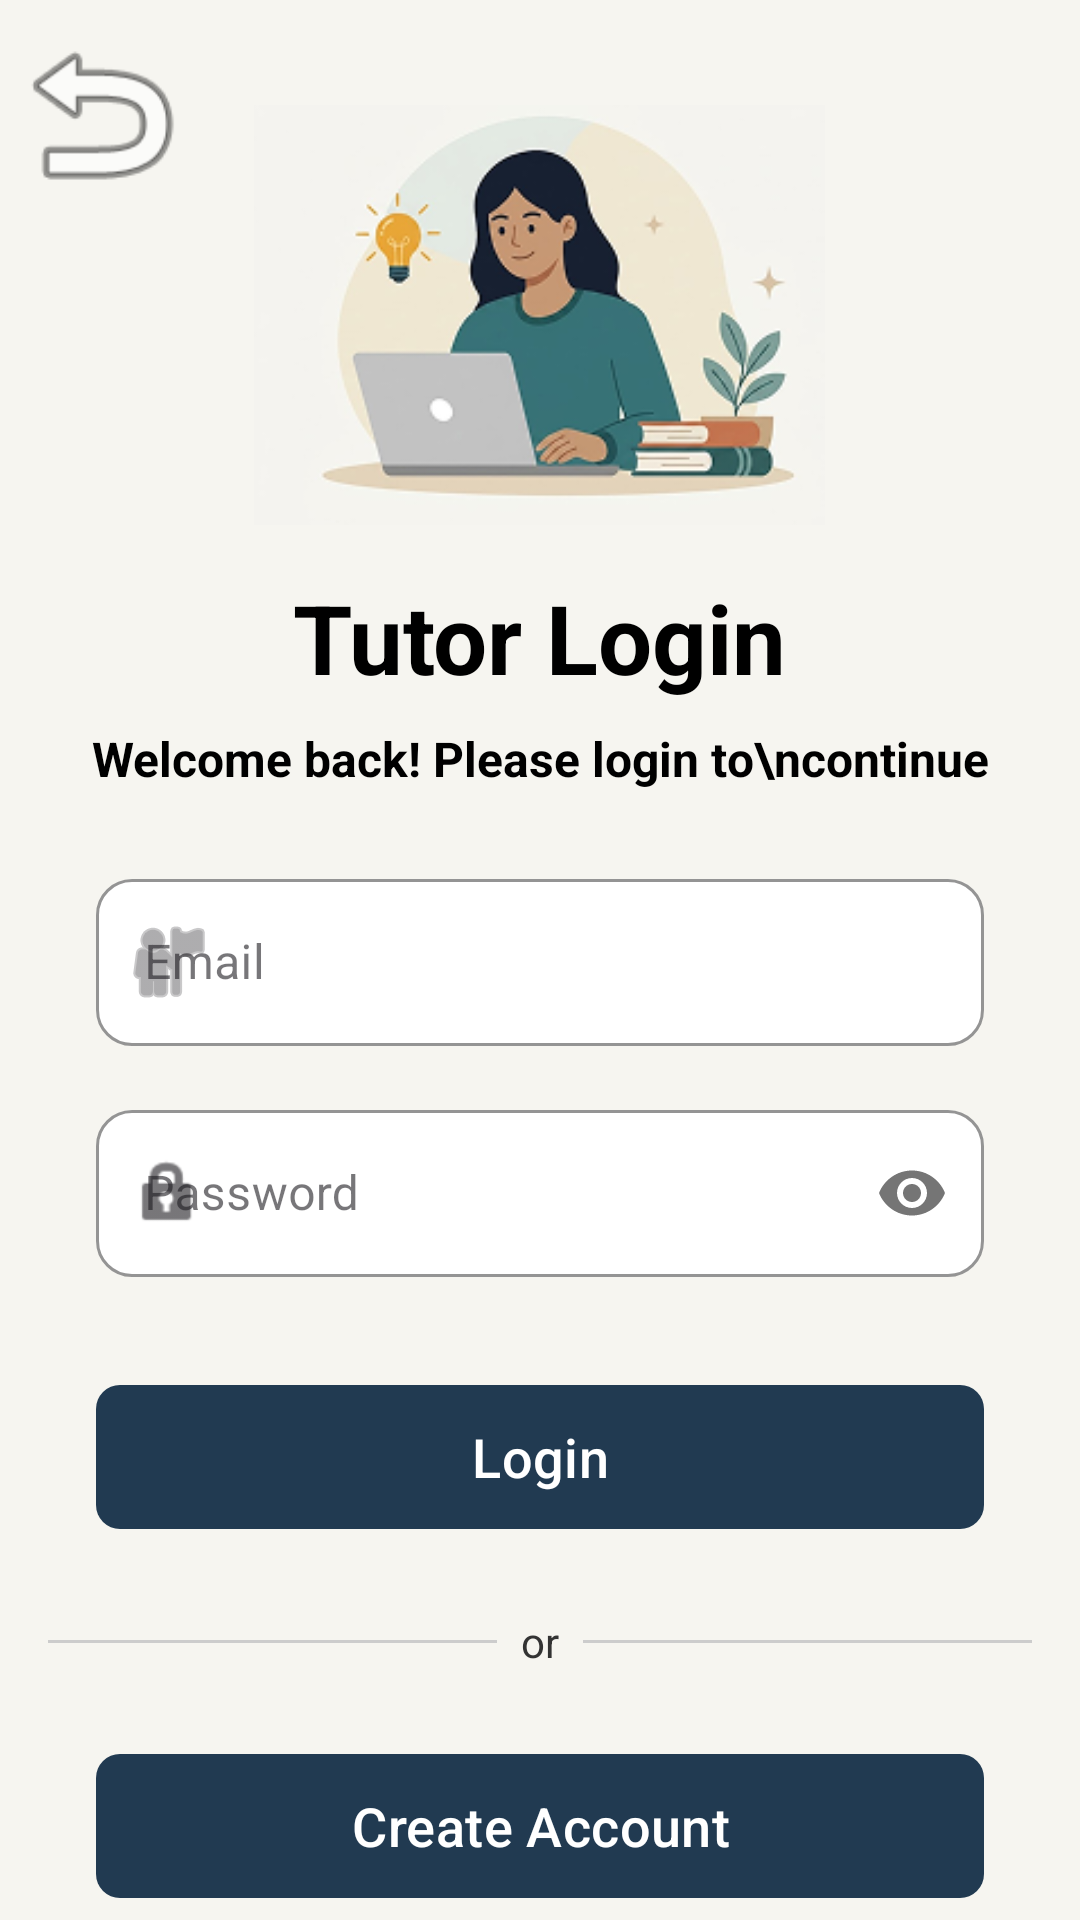

Named icons in this screenshot (1080w x 1920h) and their centers, point (x, y):
back: point (103, 116)
